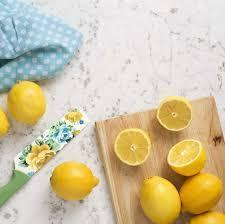lemon: (140, 176, 180, 224), (50, 162, 99, 200), (178, 172, 222, 214), (7, 80, 44, 125), (166, 138, 206, 176), (114, 128, 151, 166), (156, 96, 192, 131), (185, 211, 225, 224), (0, 106, 10, 139)
